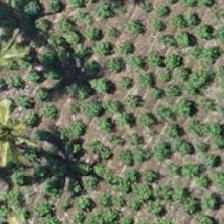coconut_tree: (0, 84, 56, 174)
